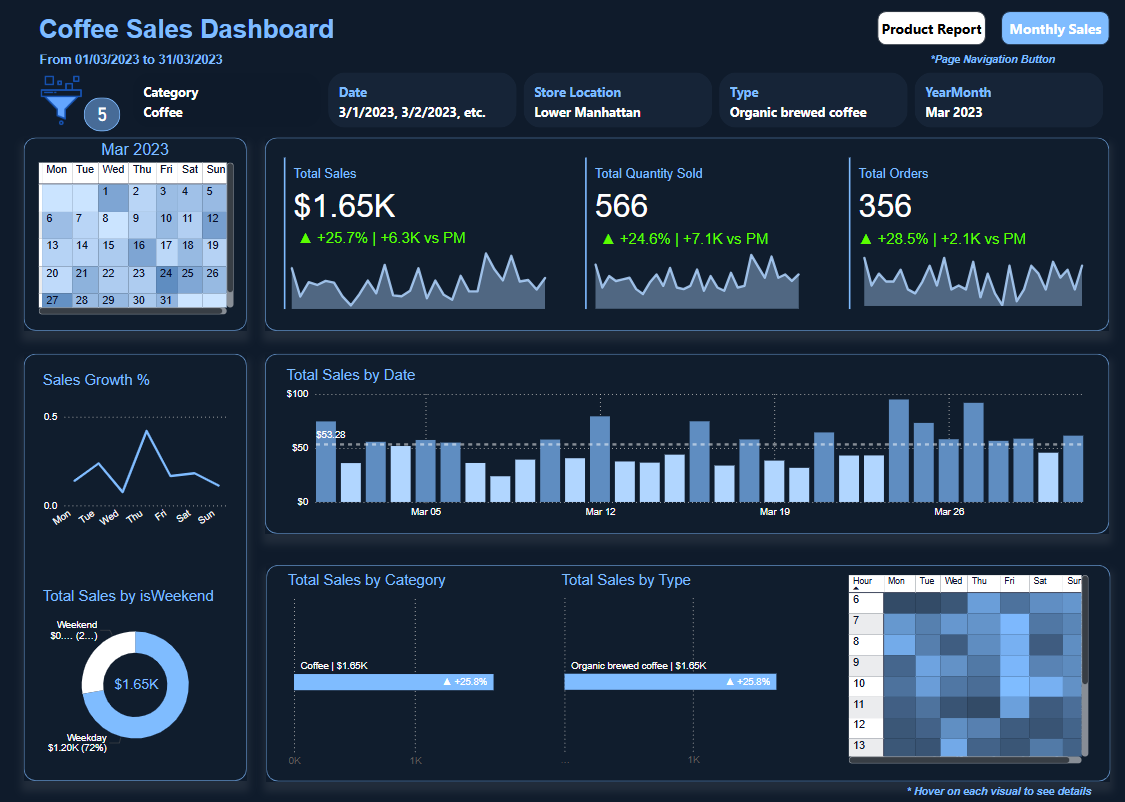

The dashboard page shown, as its layout file describes it:
{"tool":"powerbi","page":{"name":"Monthly Sales","canvas":[1440,1024],"ordinal":3},"visuals":[{"type":"shape","box":[31.2,184.1,313.6,241.8],"z":0},{"type":"shape","box":[31.2,454,313.6,533.5],"z":1000},{"type":"shape","box":[344.5,717.7,1053.7,270.2],"z":2000},{"type":"shape","box":[366.6,454,1029.6,224.6],"z":3000},{"type":"shape","box":[366.6,184.1,1029.6,241.8],"z":4000},{"type":"cardVisual","fields":{"Data":["Key Measures.Total Quantity Sold"]},"box":[741,205.9,290.2,199.7],"z":5000},{"type":"cardVisual","fields":{"Data":["Key Measures.Total Sales"]},"box":[388.5,204.4,255.8,198.1],"z":6000},{"type":"cardVisual","fields":{"Data":["Key Measures.Total Orders"]},"box":[1090.5,204.4,319.8,199.7],"z":7000},{"type":"card","fields":{"Values":["Key Measures.MoM Growth & Quantity Diff"]},"box":[730.1,254.3,273,104.5],"z":8000},{"type":"card","fields":{"Values":["Key Measures.MoM Growth & Sales Diff"]},"box":[382.2,241.8,266.8,127.9],"z":9000},{"type":"card","fields":{"Values":["Key Measures.MoM Growth & Orders Diff"]},"box":[1079.6,252.7,263.6,104.5],"z":10000},{"type":"pivotTable","fields":{"Columns":["Dim_Date.ShortWeekdayName"],"Values":["Min(Dim_Date.DayNo)"],"Rows":["Dim_Date.WeekNumber"]},"box":[55.7,211.1,253.3,199.3],"z":11000},{"type":"donutChart","fields":{"Y":["Key Measures.Total Sales"],"Category":["Dim_Date.isWeekend"]},"box":[43.7,469.6,290.2,223.1],"z":12000},{"type":"card","fields":{"Values":["Key Measures.Total Sales"]},"box":[145.1,546,87.4,96.7],"z":13000},{"type":"clusteredBarChart","title":"Total Sales by Category","fields":{"Category":["Dim_Category.product_category"],"Y":["Key Measures.Placeholder","Key Measures.Total Sales"]},"box":[366.1,726.1,300.1,252.5],"z":14000},{"type":"clusteredBarChart","title":"Total Sales by Type","fields":{"Category":["Dim_Type.product_type"],"Y":["Key Measures.Placeholder","Key Measures.Total Sales"]},"box":[708,726.1,317.5,251.6],"z":15000},{"type":"columnChart","fields":{"Category":["Dim_Date.Date"],"Y":["Key Measures.Total Sales"]},"box":[364.8,469.5,1011.5,197.6],"z":16000},{"type":"card","fields":{"Values":["Key Measures.Date Range"]},"box":[43.7,68.6,265.2,32.8],"z":17000},{"type":"shape","box":[1261.4,27,135.1,42.2],"z":18000},{"type":"shape","box":[1107.8,27,135.1,42.2],"z":19000},{"type":"textbox","box":[56.2,26.5,433.7,48.4],"z":20000},{"type":"pivotTable","fields":{"Rows":["Dim_Time.Hour"],"Columns":["Dim_Date.ShortWeekdayName"],"Values":["Key Measures.Total Sales"]},"box":[42.1,706.7,291.7,269.9],"z":22000},{"type":"lineChart","fields":{"Y":["Key Measures.Total Quantity Sold"],"Category":["Dim_Date.Date"]},"box":[741,302.6,338.5,101.4],"z":23000},{"type":"lineChart","fields":{"Category":["Dim_Date.Date"],"Y":["Key Measures.Total Sales"]},"box":[388.5,310.4,352.6,93.6],"z":24000},{"type":"lineChart","fields":{"Y":["Key Measures.Total Orders"],"Category":["Dim_Date.Date"]},"box":[1090.5,305.8,308.9,93.6],"z":25000},{"type":"textbox","box":[1138.2,987.9,260.1,35.5],"z":26000},{"type":"textbox","box":[1168.6,74.3,185.8,27],"z":27000},{"type":"actionButton","box":[116.5,133.4,45.6,42.2],"z":28000},{"type":"card","fields":{"Values":["Min(Dim_Date.YearMonth)"]},"box":[126.7,184.1,109.8,32.1],"z":29000},{"type":"slicer","fields":{"Values":["Dim_Date.YearMonth"]},"box":[467.5,22.7,176.9,61.7],"z":29500},{"type":"advancedSlicerVisual","fields":{"Values":["Slicer Table.Slicer"]},"box":[173.9,103,1224.3,69.2],"z":30000},{"type":"image","title":"Slicer_Showbox","box":[42.2,101.3,92.9,72.6],"z":32000},{"type":"card","fields":{"Values":["Key Measures._xxx value"]},"box":[116.2,134.5,46.9,40.8],"z":34000},{"type":"clusteredBarChart","title":"Total Sales by Store Location","fields":{"Category":["Dim_Store.store_location"],"Y":["Key Measures.Placeholder","Key Measures.Total Sales"]},"box":[1026.5,725.4,413.4,252.7],"z":34001}]}

Visuals, with their boxes in screenshot pixels (x1, y1, x2, y2), scaled from the page's 1440x1024 canvas onto the 1125x802 screenshot:
shape: bbox=(24, 144, 269, 334)
shape: bbox=(24, 356, 269, 773)
shape: bbox=(269, 562, 1092, 774)
shape: bbox=(286, 356, 1091, 531)
shape: bbox=(286, 144, 1091, 334)
cardVisual - Key Measures.Total Quantity Sold: bbox=(579, 161, 806, 318)
cardVisual - Key Measures.Total Sales: bbox=(304, 160, 503, 315)
cardVisual - Key Measures.Total Orders: bbox=(852, 160, 1102, 316)
card - Key Measures.MoM Growth & Quantity Diff: bbox=(570, 199, 784, 281)
card - Key Measures.MoM Growth & Sales Diff: bbox=(299, 189, 507, 290)
card - Key Measures.MoM Growth & Orders Diff: bbox=(843, 198, 1049, 280)
pivotTable - Dim_Date.ShortWeekdayName x Min(Dim_Date.DayNo): bbox=(44, 165, 241, 321)
donutChart - Key Measures.Total Sales x Dim_Date.isWeekend: bbox=(34, 368, 261, 543)
card - Key Measures.Total Sales: bbox=(113, 428, 182, 503)
"Total Sales by Category" clusteredBarChart: bbox=(286, 569, 520, 766)
"Total Sales by Type" clusteredBarChart: bbox=(553, 569, 801, 766)
columnChart - Dim_Date.Date x Key Measures.Total Sales: bbox=(285, 368, 1075, 522)
card - Key Measures.Date Range: bbox=(34, 54, 241, 79)
shape: bbox=(985, 21, 1091, 54)
shape: bbox=(865, 21, 971, 54)
textbox: bbox=(44, 21, 383, 59)
pivotTable - Dim_Time.Hour x Dim_Date.ShortWeekdayName: bbox=(33, 553, 261, 765)
lineChart - Key Measures.Total Quantity Sold x Dim_Date.Date: bbox=(579, 237, 843, 316)
lineChart - Dim_Date.Date x Key Measures.Total Sales: bbox=(304, 243, 579, 316)
lineChart - Key Measures.Total Orders x Dim_Date.Date: bbox=(852, 240, 1093, 313)
textbox: bbox=(889, 774, 1092, 801)
textbox: bbox=(913, 58, 1058, 79)
actionButton: bbox=(91, 104, 127, 138)
card - Min(Dim_Date.YearMonth): bbox=(99, 144, 185, 169)
slicer - Dim_Date.YearMonth: bbox=(365, 18, 503, 66)
advancedSlicerVisual - Slicer Table.Slicer: bbox=(136, 81, 1092, 135)
"Slicer_Showbox" image: bbox=(33, 79, 106, 136)
card - Key Measures._xxx value: bbox=(91, 105, 127, 137)
"Total Sales by Store Location" clusteredBarChart: bbox=(802, 568, 1124, 766)
